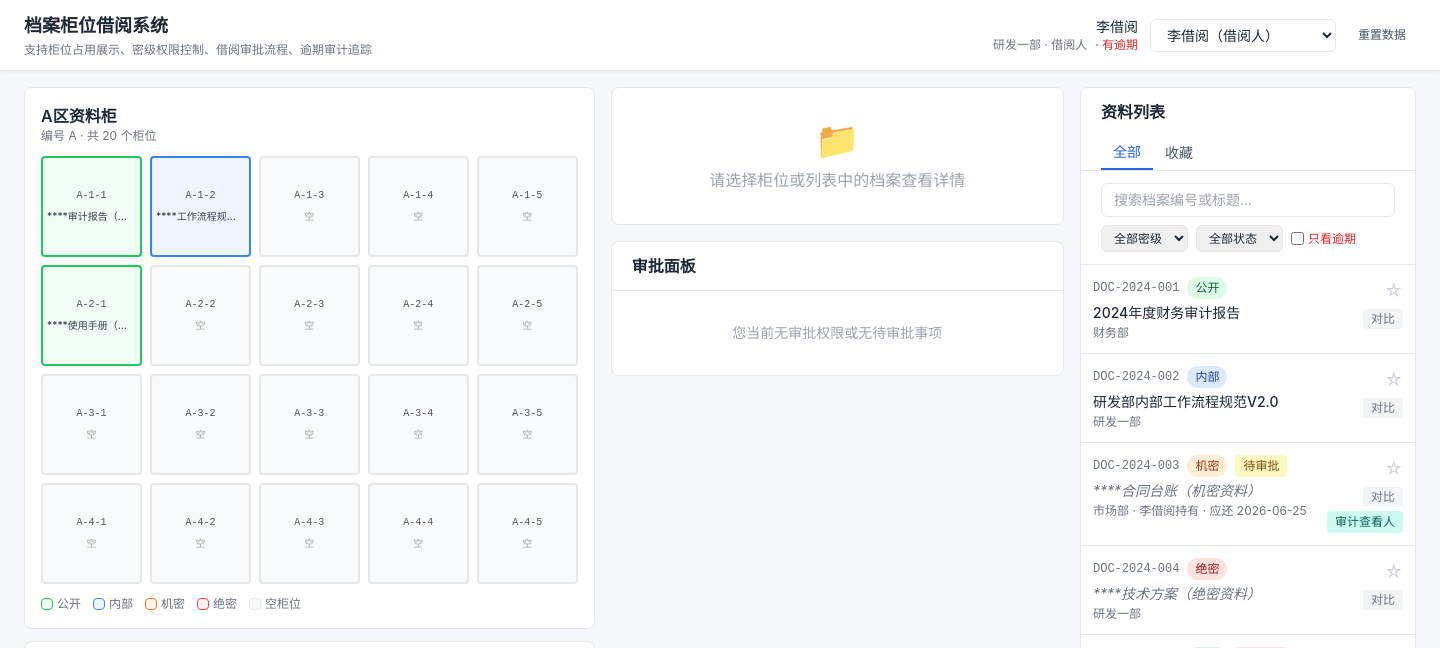
Test: 档案柜位借阅系统 - 核心业务场景验证 › 场景2：无权限用户看不到涉密详情 › 普通借阅人切换角色后能看到不同权限级别的内容
Select "李借阅（借阅人）" in the dropdown with test id "role-select": point(1243, 35) [1150, 18, 1336, 52]
Click the element with test id "archive-row-arc-4": point(1248, 590) [1081, 545, 1415, 634]
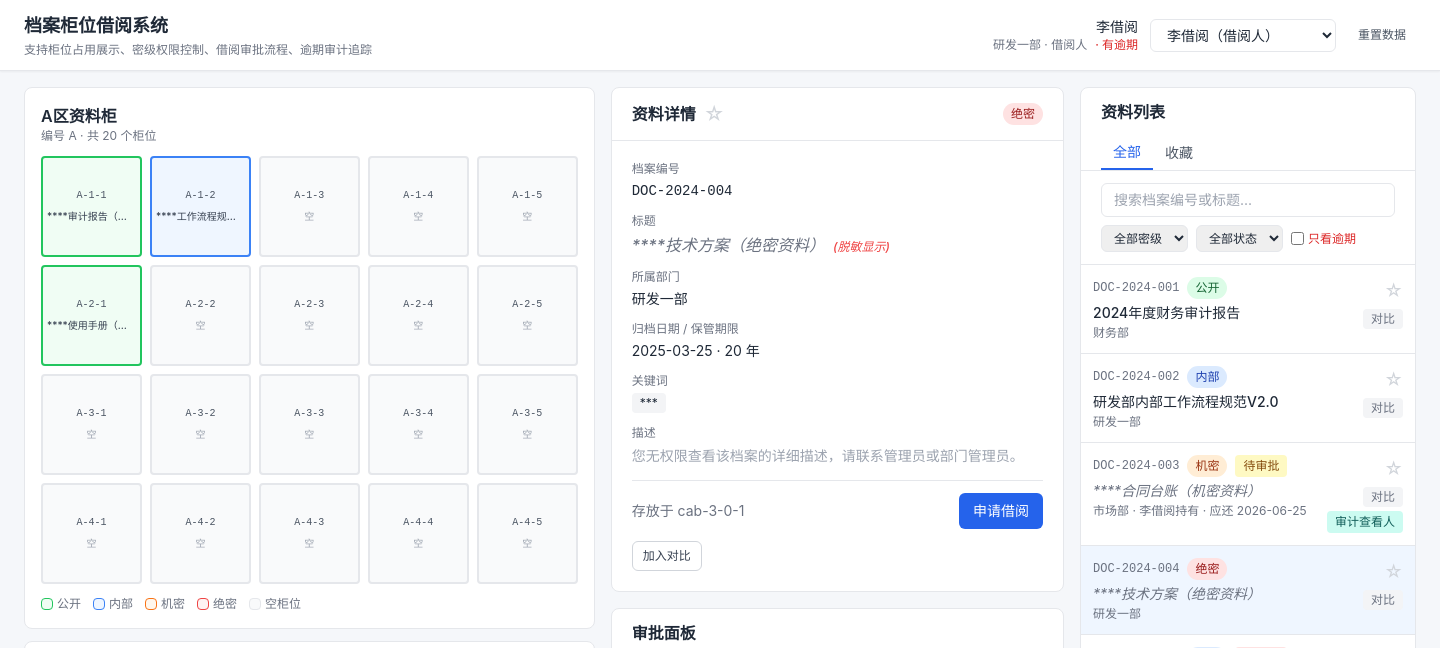
Result: the element with test id "archive-title" is shown at [632, 235, 890, 255]
Result: the element with test id "archive-title" shows "****" at [632, 235, 825, 255]
Select "张档案（档案员）" in the dropdown with test id "role-select": point(1243, 35) [1150, 18, 1336, 52]
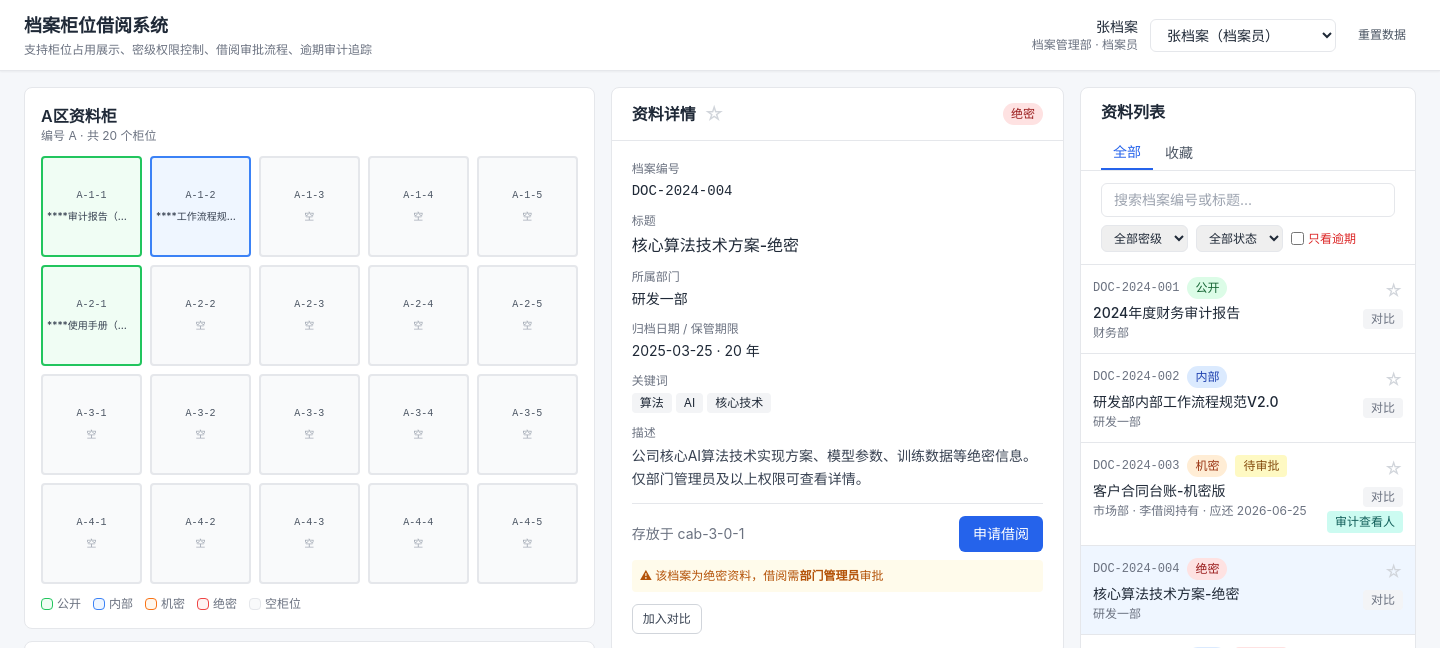
Result: the text with test id "archive-title" shows "核心算法技术方案" at [632, 235, 799, 255]
